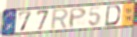5: (88, 7, 103, 28)
7: (18, 10, 33, 33), (36, 9, 50, 32)
D: (104, 5, 122, 27)
P: (69, 7, 88, 29)
R: (49, 7, 70, 31)
